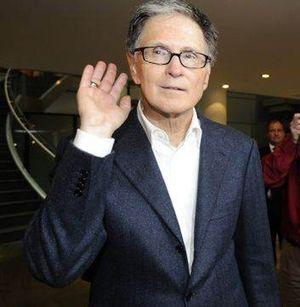person: (25, 1, 281, 307)
